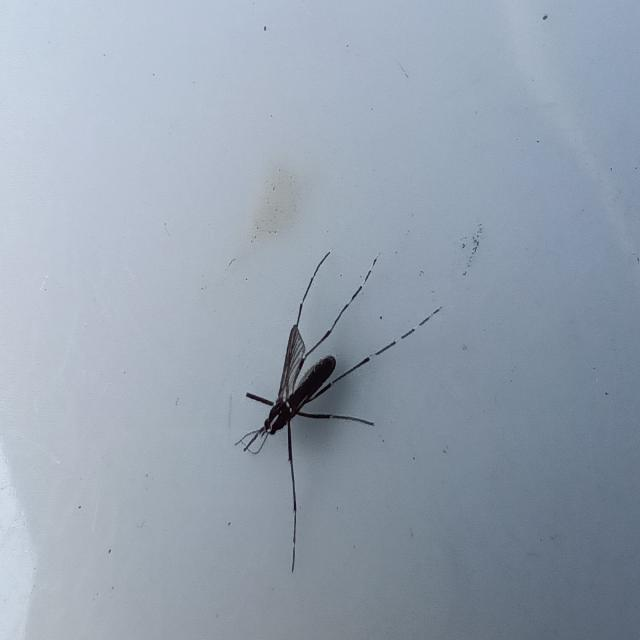albopictus: (225, 234, 413, 576)
